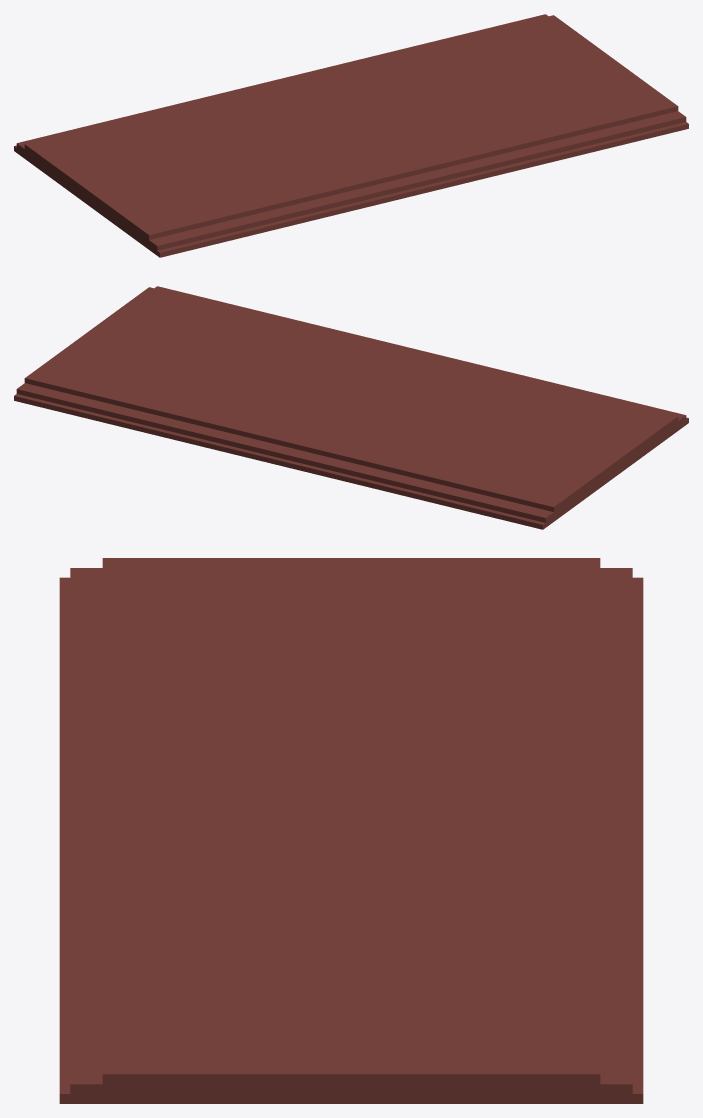
Rendered from horse_box_roof.glb.
The picture shows the model from 3 angles, top to bottom: view 1: azimuth 30°, elevation 25°; view 2: azimuth 150°, elevation 25°; view 3: azimuth 270°, elevation 25°; orthographic projection. The views are drawn at different scales.
Visible parts, largest first — view 1: body:compound; view 2: body:compound; view 3: body:compound.
Boxes of the visible parts, box(x1,y1,x2,y2) form: body:compound: box(14, 14, 688, 257); body:compound: box(14, 286, 688, 529); body:compound: box(59, 558, 643, 1103).
Size of the model in its own units: 3.53 by 0.0938 by 1.69.
